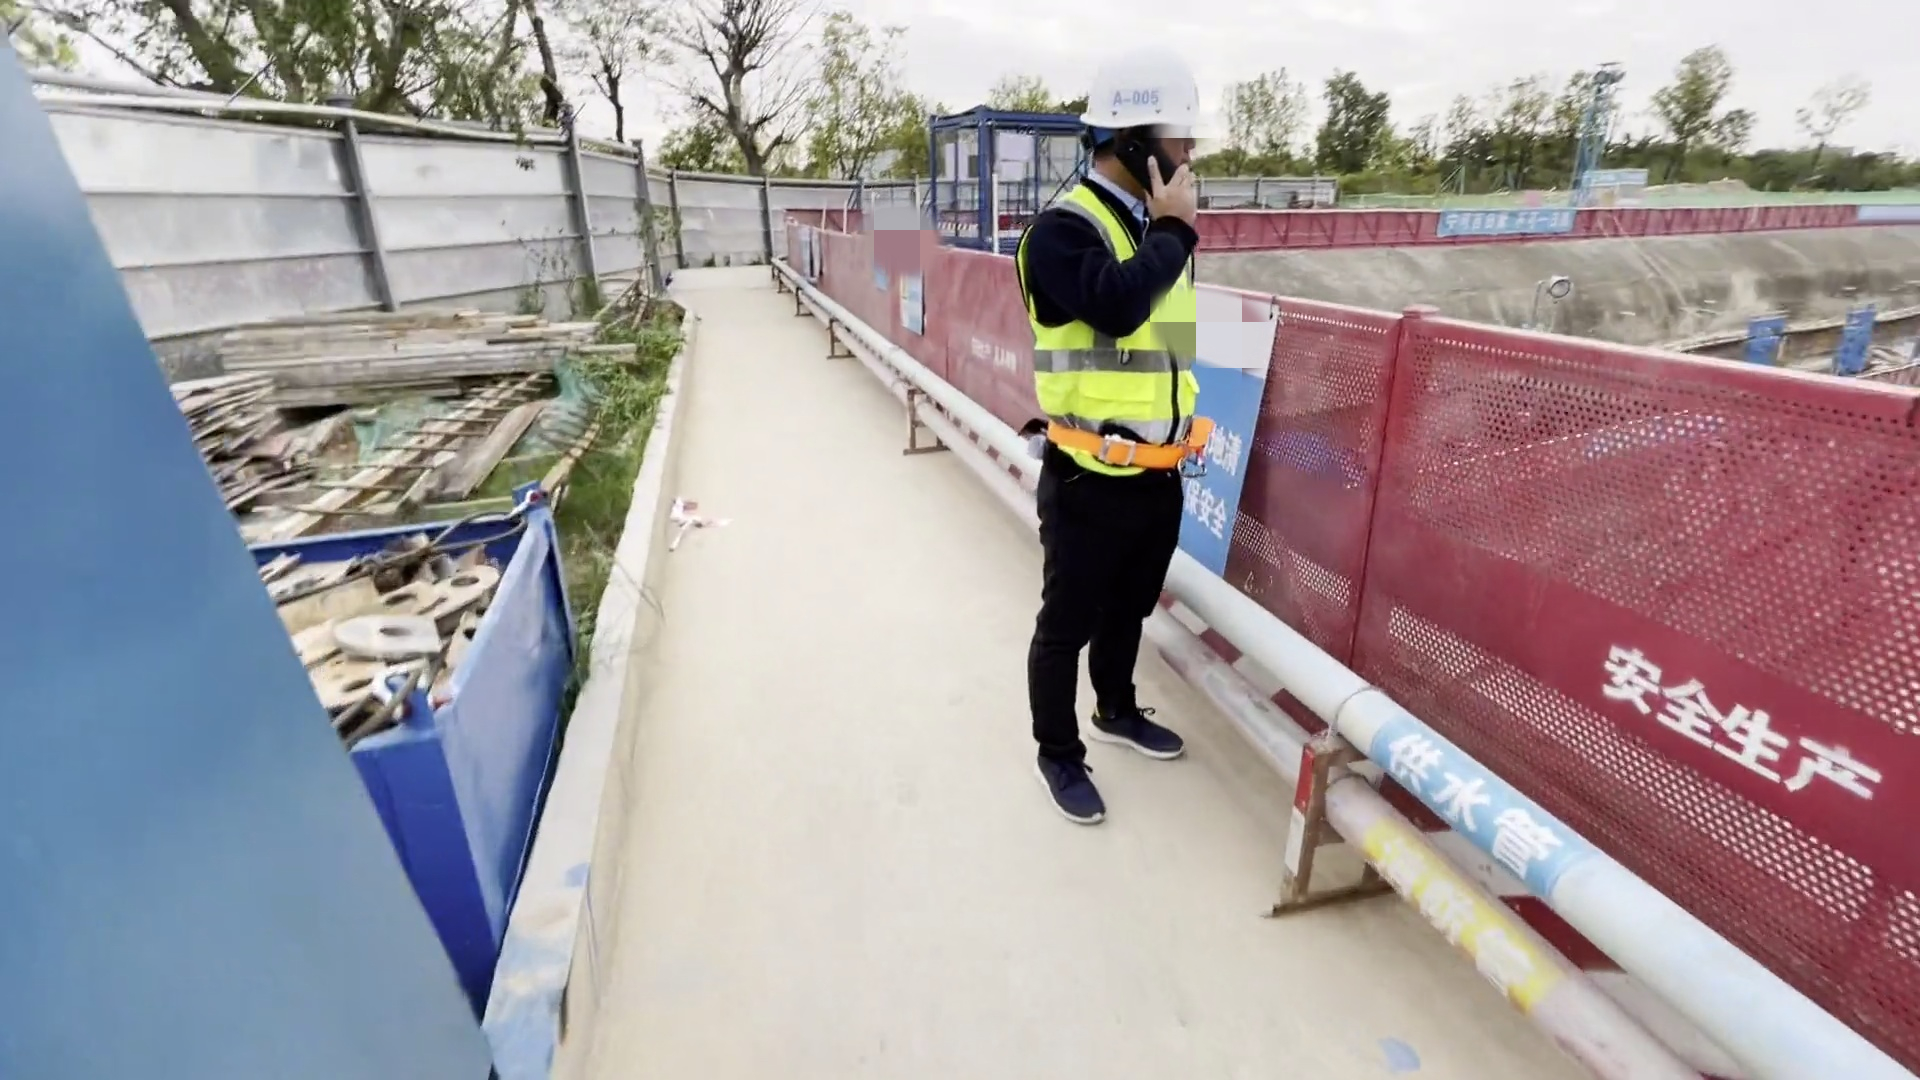board: (183, 365, 296, 516)
fence: (781, 194, 1920, 1011)
helmet: (1078, 44, 1202, 146)
hopper: (230, 489, 609, 946)
person: (1022, 41, 1209, 839)
slogan: (1172, 280, 1272, 593), (858, 231, 958, 358), (1437, 199, 1590, 250), (797, 227, 832, 293)
vest: (1032, 171, 1213, 489)
wood: (216, 291, 629, 404)
